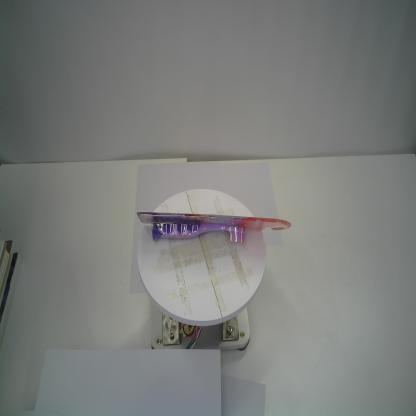Personal Hygiene: (136, 210, 293, 244)
